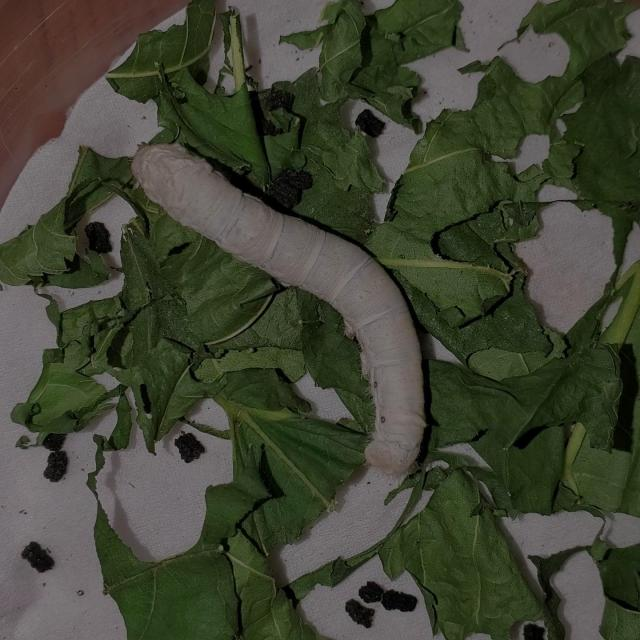Healthy: (104, 123, 453, 507)
